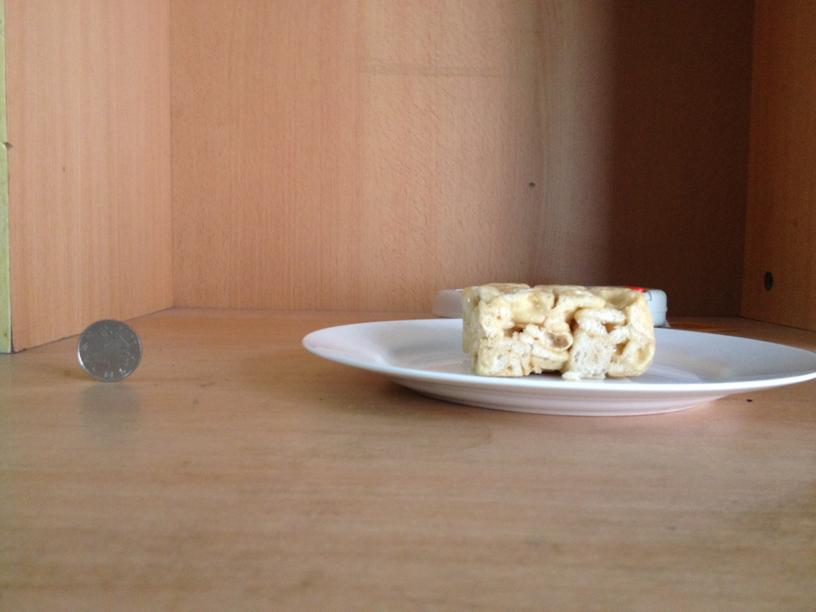coin: (78, 318, 142, 381)
sachima: (462, 281, 656, 378)
